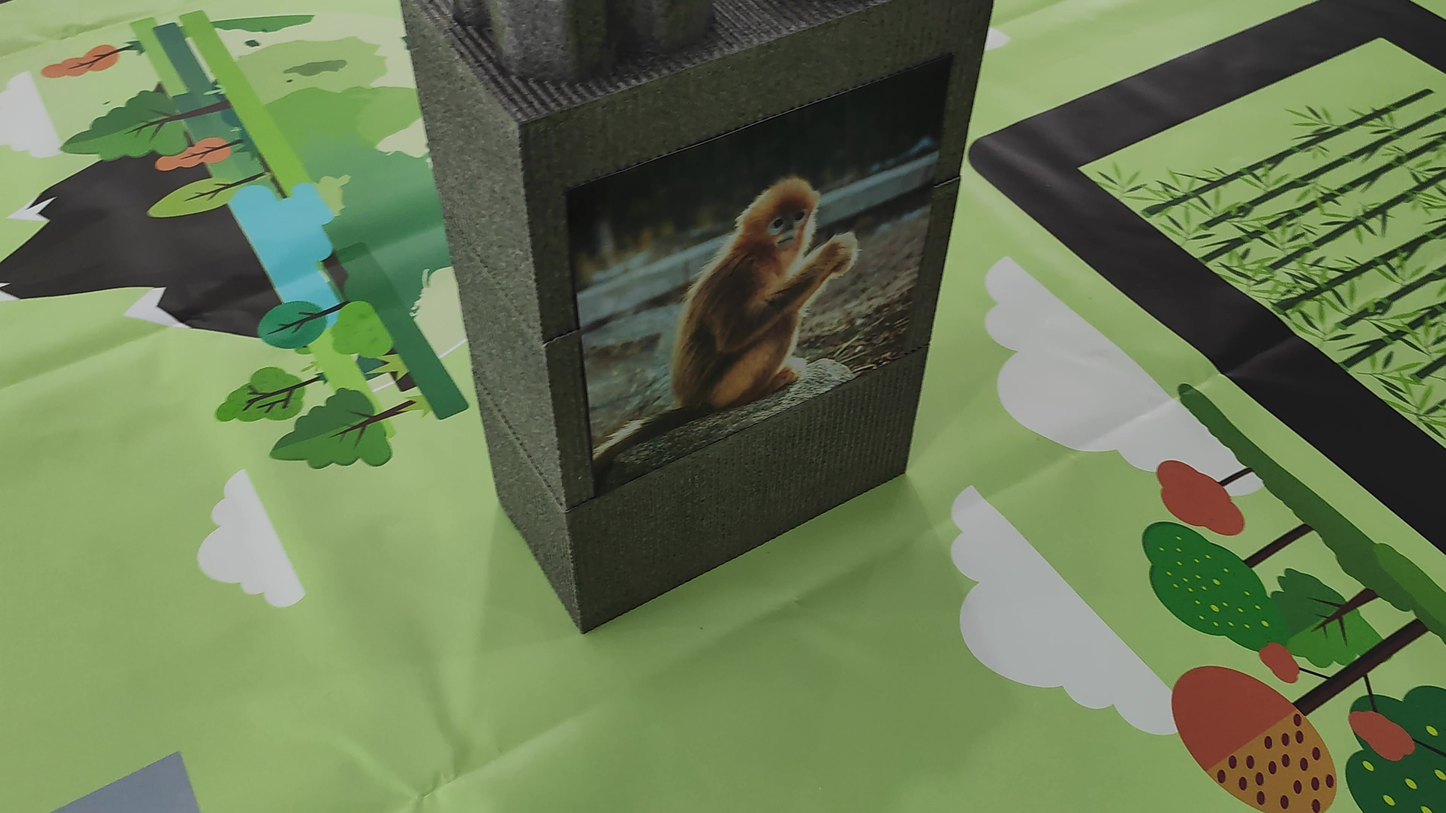monkey: (580, 167, 891, 477)
